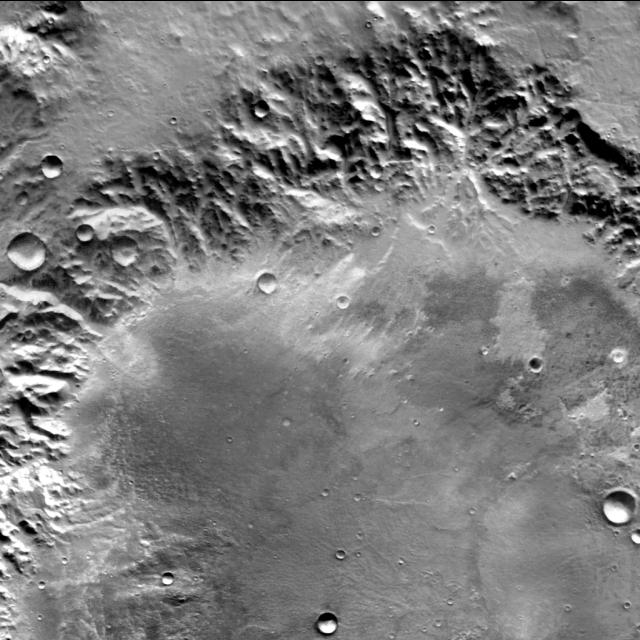crater: (472, 473, 640, 640), (8, 237, 46, 277), (602, 497, 636, 531), (111, 242, 138, 270), (40, 162, 62, 184), (316, 619, 338, 640), (257, 278, 277, 298), (75, 230, 94, 248), (253, 108, 270, 124), (530, 360, 546, 376), (369, 171, 383, 185), (160, 579, 173, 593), (337, 302, 349, 314), (488, 0, 504, 8), (631, 536, 640, 550), (613, 358, 624, 369), (335, 556, 345, 566), (18, 200, 28, 210), (374, 187, 384, 197), (314, 61, 324, 70), (372, 234, 381, 243), (427, 232, 435, 240), (44, 580, 52, 588), (282, 424, 290, 432), (24, 337, 32, 345), (160, 150, 167, 158), (177, 116, 184, 123), (50, 54, 57, 61), (328, 487, 334, 495), (476, 508, 482, 514), (363, 532, 369, 538), (361, 494, 366, 500)
